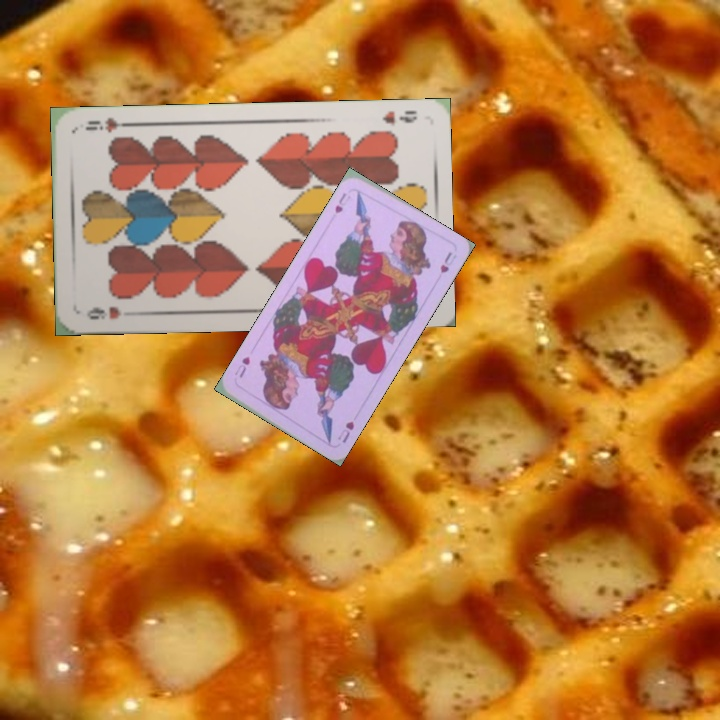H9: (378, 106, 419, 127), (83, 303, 124, 322)
HU: (333, 417, 357, 446), (331, 188, 353, 216)
